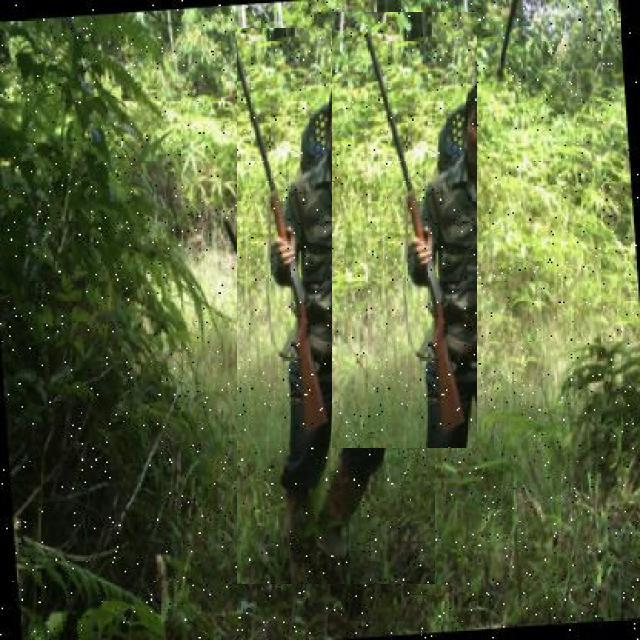poacher: (237, 28, 435, 584)
weapon: (332, 12, 477, 448), (224, 185, 290, 442)
